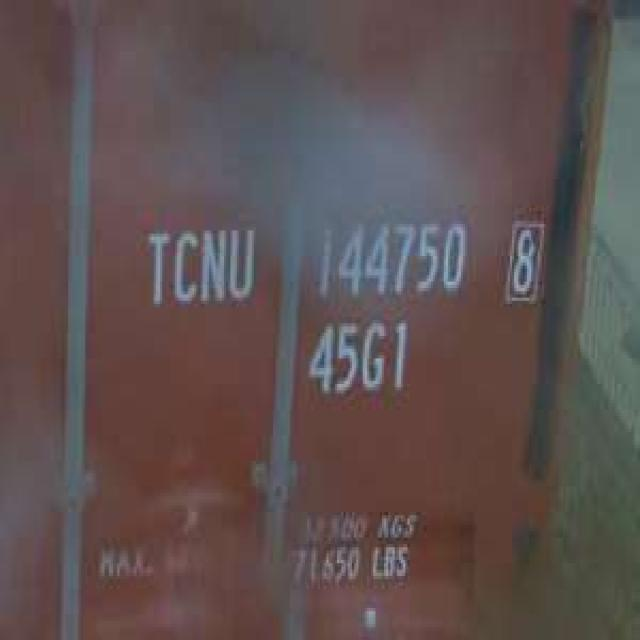dv: (499, 211, 546, 307)
owner: (139, 214, 260, 314)
serial: (307, 211, 472, 304)
size: (301, 311, 414, 404)
